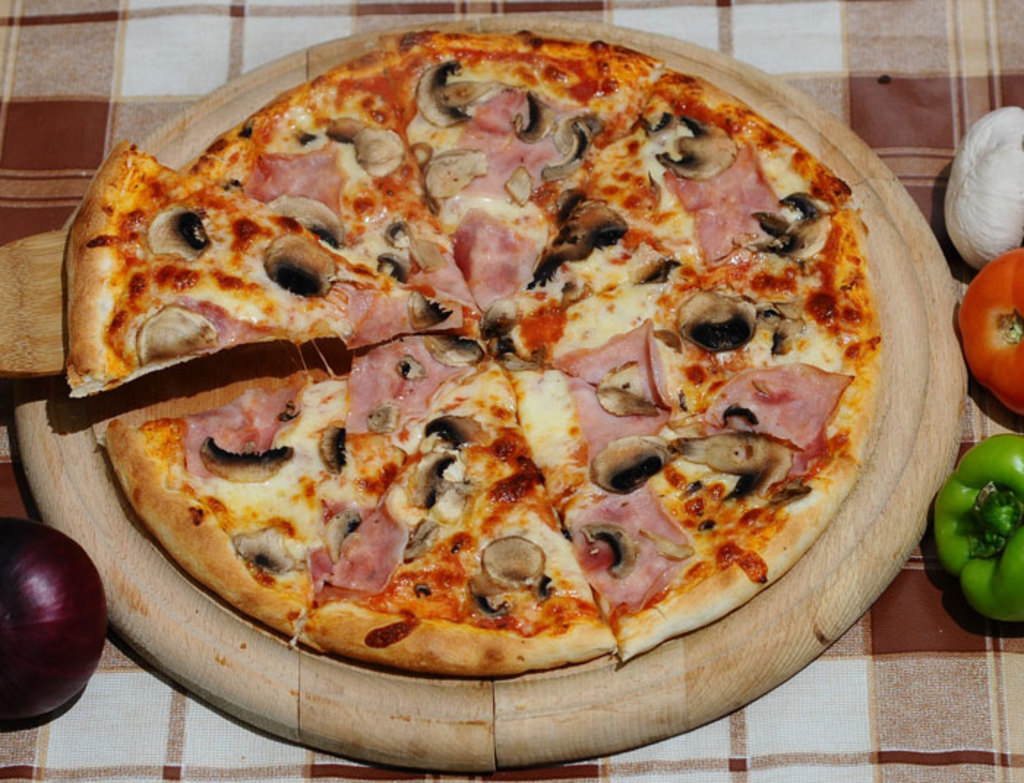Pizza: (64, 30, 877, 682)
